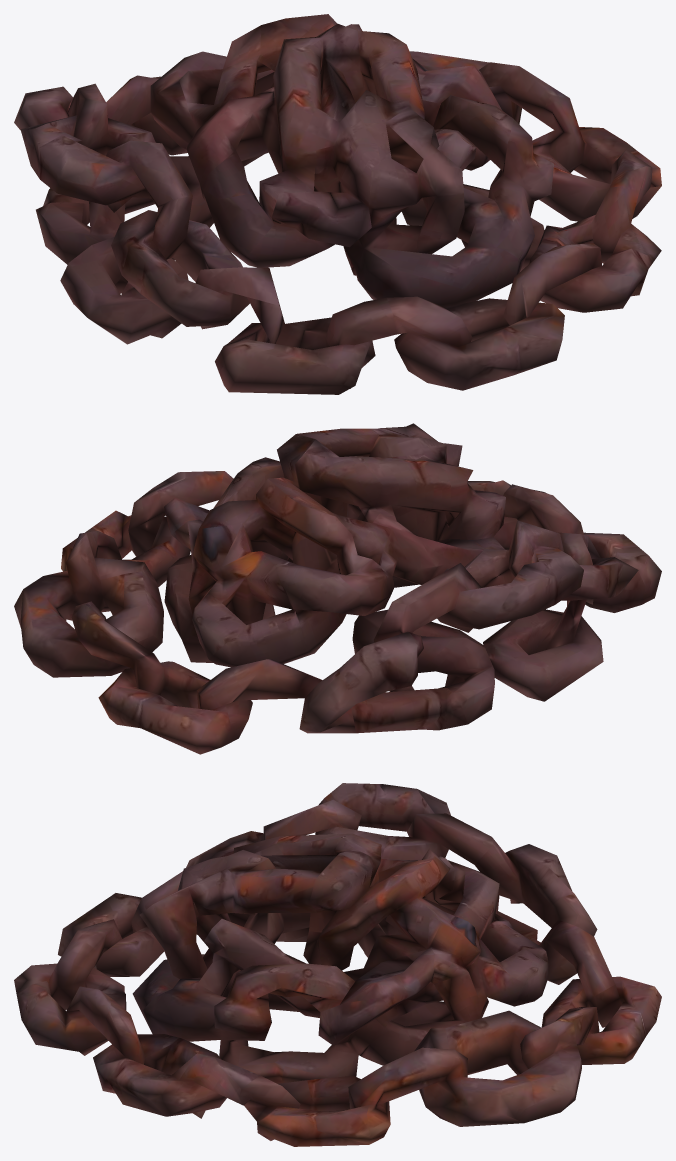
File: cr_chains-Gksx1RSw.glb
3 views of the same model, one above another, from view 1: azimuth 30°, elevation 25°; view 2: azimuth 150°, elevation 25°; view 3: azimuth 270°, elevation 25° (orthographic). The views are drawn at different scales.
Parts seen in each view (by area): view 1: tripo_node_83d057a2-8b20-4b8b-9756-b1a6599810a6; view 2: tripo_node_83d057a2-8b20-4b8b-9756-b1a6599810a6; view 3: tripo_node_83d057a2-8b20-4b8b-9756-b1a6599810a6.
Boxes of the visible parts, x1,y1,x2,y2 form: tripo_node_83d057a2-8b20-4b8b-9756-b1a6599810a6: (14, 14, 661, 394); tripo_node_83d057a2-8b20-4b8b-9756-b1a6599810a6: (14, 423, 661, 754); tripo_node_83d057a2-8b20-4b8b-9756-b1a6599810a6: (14, 783, 661, 1146).
Size of the model in its own units: 1.82 by 0.6703 by 2.04.
Materials: 1 (1 with a texture image).
